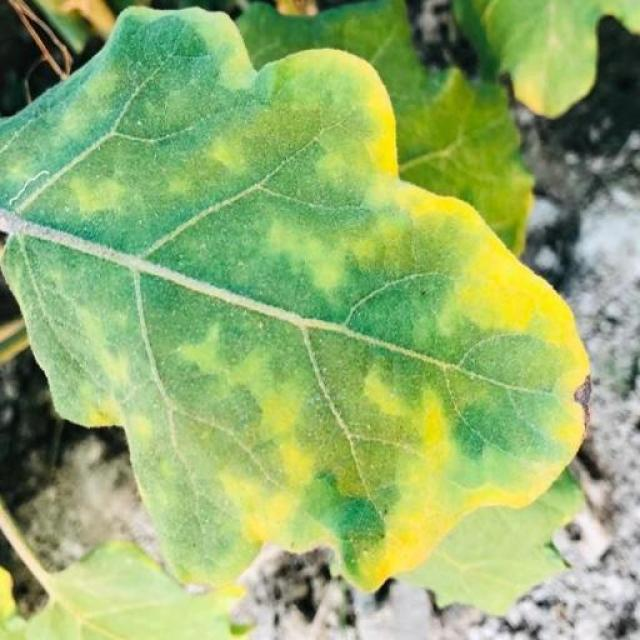leaf_spot: (235, 307, 640, 601), (6, 301, 285, 640), (174, 129, 424, 348), (408, 161, 600, 406), (274, 30, 454, 244), (134, 84, 298, 229), (1, 117, 170, 248), (435, 70, 604, 198), (467, 2, 640, 119), (124, 0, 263, 124), (63, 27, 154, 178)
